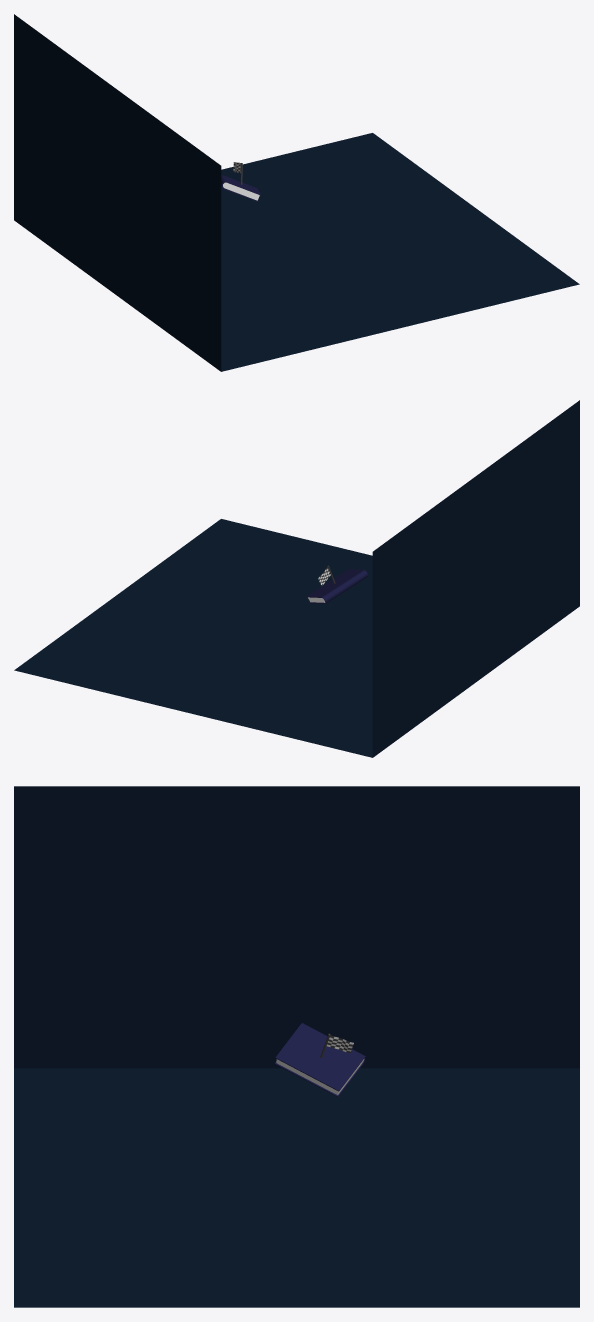
File: capaian.gltf
3 views of the same model, one above another, from view 1: azimuth 30°, elevation 25°; view 2: azimuth 150°, elevation 25°; view 3: azimuth 270°, elevation 25° (orthographic). The views are drawn at different scales.
Parts seen in each view (by area): view 1: bg, object; view 2: bg, object; view 3: bg, object.
Boxes of the visible parts, bbox=[...] form: bg: bbox=[14, 14, 579, 371]; object: bbox=[221, 162, 260, 201]; bg: bbox=[14, 400, 579, 757]; object: bbox=[306, 565, 368, 603]; bg: bbox=[14, 786, 579, 1307]; object: bbox=[274, 1023, 366, 1097].
Bounding box in the file's own units: 8 × 4.39 × 8.
